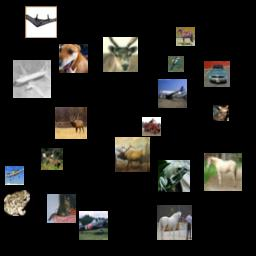airplane: (13, 60, 51, 98), (25, 6, 57, 38), (158, 79, 187, 108), (79, 211, 108, 240), (5, 166, 24, 185)
automobile: (204, 61, 230, 87)
bird: (168, 56, 184, 72)
cat: (47, 194, 76, 223), (213, 105, 229, 121)
deer: (103, 37, 138, 72), (115, 137, 150, 172), (55, 107, 87, 139), (41, 148, 63, 170)
dog: (59, 44, 88, 73)
frog: (158, 160, 190, 192), (4, 190, 30, 216)
truck: (142, 117, 161, 136)
